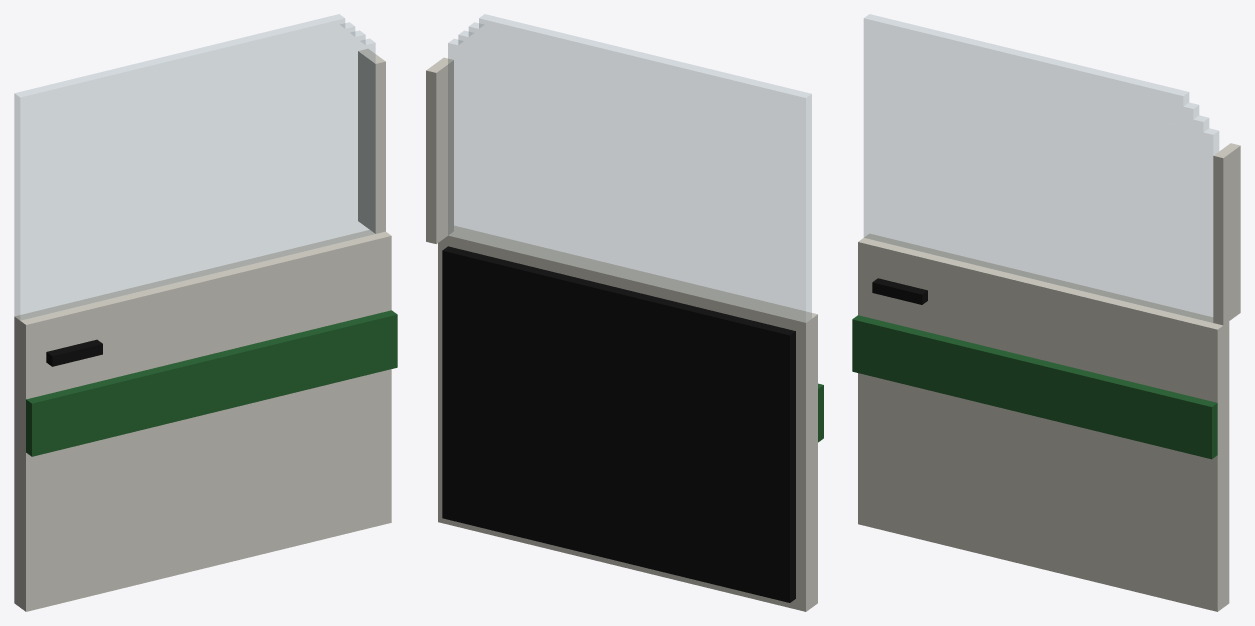
The model's file is camper_van_front_door.glb.
3 renders of one model, left to right at view 1: azimuth 30°, elevation 25°; view 2: azimuth 150°, elevation 25°; view 3: azimuth 330°, elevation 25°, orthographic. The views are drawn at different scales.
Parts seen in each view (by area): view 1: body:compound; view 2: body:compound; view 3: body:compound.
Part boxes in pixels (x1,y1,x2,y2): body:compound: (14,14,397,611); body:compound: (426,14,823,611); body:compound: (852,14,1240,611).
Bounding box in the file's own units: 1.12 × 1.5 × 0.1562.
